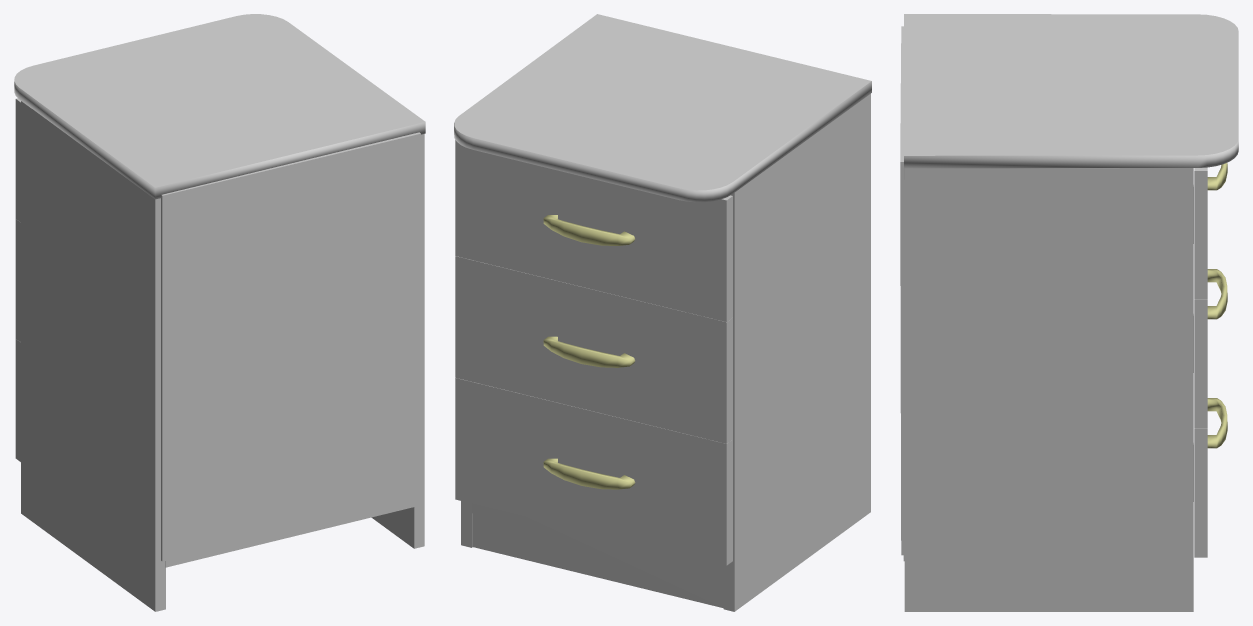
Rendered from Dresser.fbx.
3 renders of one model, left to right at view 1: azimuth 30°, elevation 25°; view 2: azimuth 150°, elevation 25°; view 3: azimuth 270°, elevation 25°, orthographic. The views are drawn at different scales.
Visible parts, largest first — view 1: Dresser, shelf_1, shelf_3, shelf_2; view 2: Dresser, shelf_3, shelf_2, shelf_1; view 3: Dresser, shelf_2, shelf_3, shelf_1.
Boxes of the visible parts, bbox=[...] form: Dresser: bbox=[14, 14, 425, 611]; shelf_1: bbox=[15, 98, 20, 221]; shelf_3: bbox=[15, 339, 20, 461]; shelf_2: bbox=[15, 219, 20, 341]; Dresser: bbox=[454, 14, 871, 611]; shelf_3: bbox=[455, 378, 732, 565]; shelf_2: bbox=[455, 256, 732, 443]; shelf_1: bbox=[455, 140, 732, 321]; Dresser: bbox=[900, 14, 1238, 611]; shelf_2: bbox=[1193, 269, 1227, 428]; shelf_3: bbox=[1193, 398, 1227, 557]; shelf_1: bbox=[1193, 163, 1227, 299].
Size of the model in its own units: 87.1 by 131 by 87.87.
